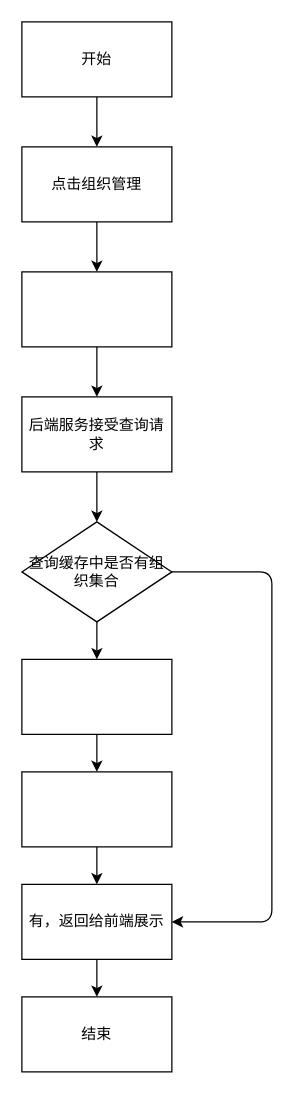
This 304x1094 diagram has some shape labels left out. Here are the shapes that lost their labels. From the top down, the box of each, then its label:
(21, 271, 172, 347): 点击所有组织，发送查询请求
(21, 658, 172, 734): 没有，查询数据库
(21, 771, 172, 847): 填充缓存中的组织集合
